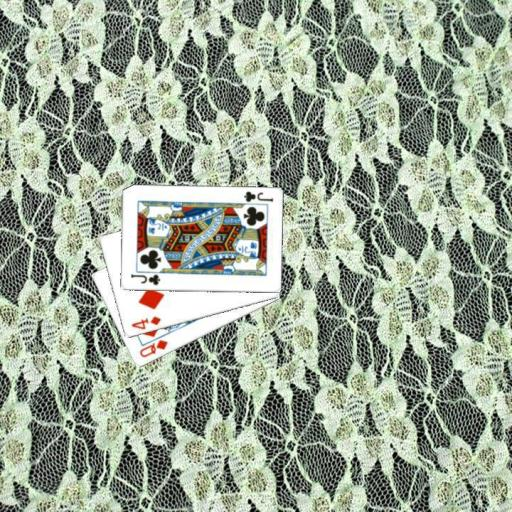card-corner: (137, 336, 169, 359), (128, 314, 162, 332), (128, 271, 162, 287), (240, 188, 274, 204)
